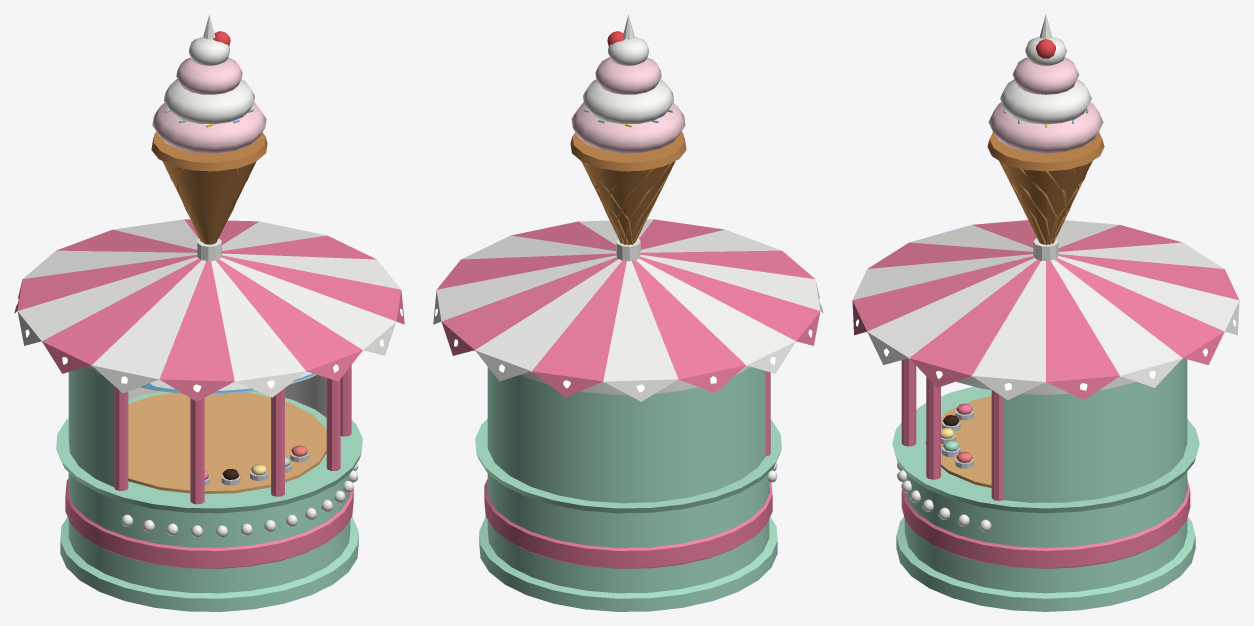
The model's file is quiosque_sorvete_casquinha.glb.
The picture shows the model from 3 angles, left to right: view 1: azimuth 30°, elevation 25°; view 2: azimuth 150°, elevation 25°; view 3: azimuth 270°, elevation 25°; orthographic projection.
Parts seen in each view (by area): view 1: quiosque_sorvete_casquinha, casquinha; view 2: quiosque_sorvete_casquinha, casquinha; view 3: quiosque_sorvete_casquinha, casquinha.
Part boxes in pixels (x1=…): quiosque_sorvete_casquinha: x1=14, y1=219, x2=404, y2=611; casquinha: x1=151, y1=14, x2=267, y2=261; quiosque_sorvete_casquinha: x1=433, y1=219, x2=823, y2=611; casquinha: x1=570, y1=14, x2=686, y2=261; quiosque_sorvete_casquinha: x1=852, y1=220, x2=1239, y2=611; casquinha: x1=987, y1=15, x2=1104, y2=260.
Size of the model in its own units: 3.7 by 5.64 by 3.7.
Materials: 3 (2 with a texture image).
